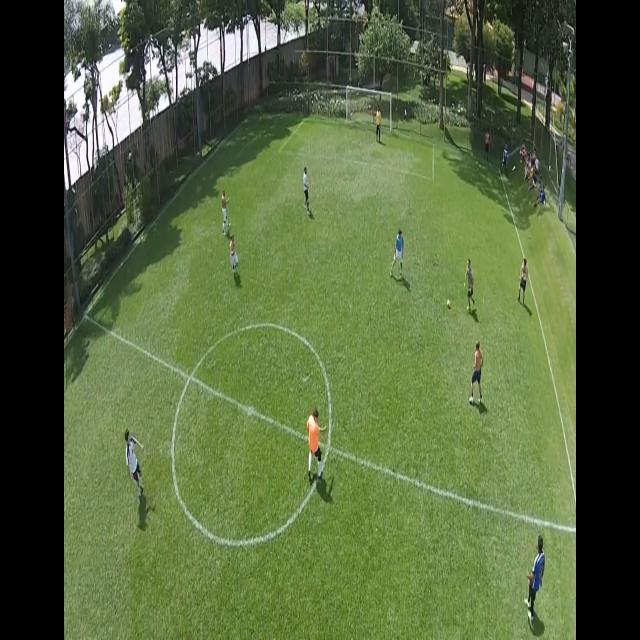humans: (524, 528, 546, 630), (305, 400, 330, 486), (122, 418, 146, 502), (468, 339, 487, 408), (389, 222, 408, 278), (228, 230, 243, 287), (463, 252, 477, 313), (301, 163, 314, 222), (219, 184, 231, 234), (519, 250, 529, 310), (500, 138, 512, 179), (373, 100, 383, 148), (482, 122, 492, 161)
